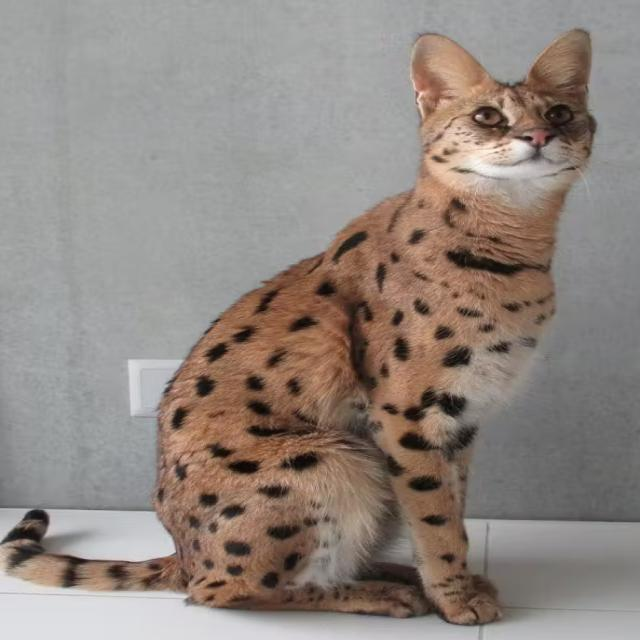Savannah: (0, 25, 603, 633)
